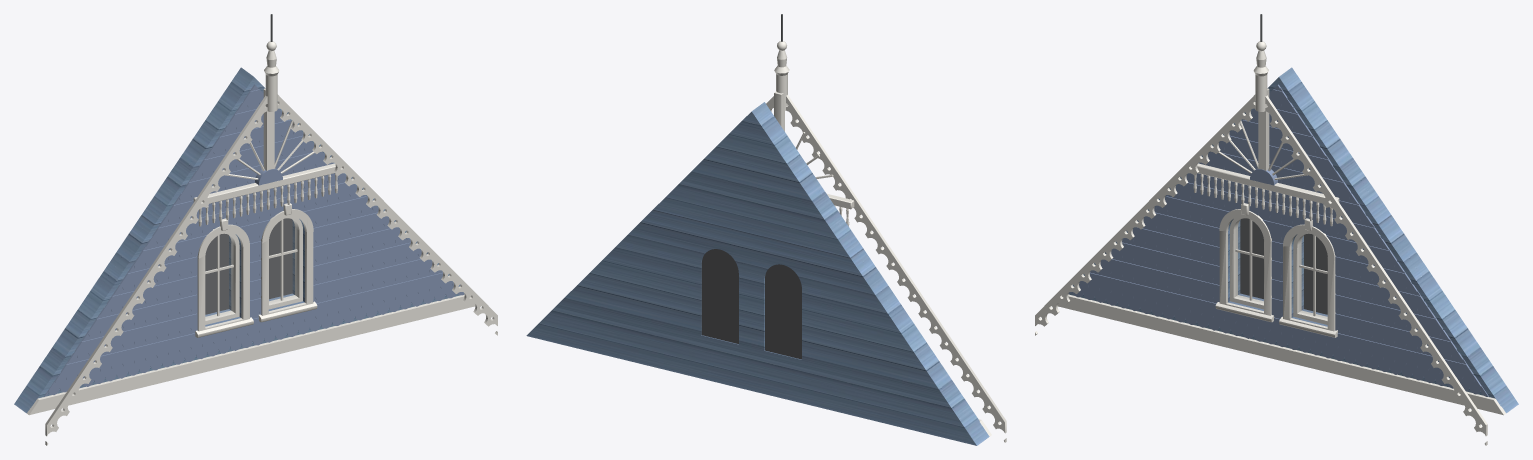
The model's file is gable_front_d.glb.
3 views of the same model, side by side, from view 1: azimuth 30°, elevation 25°; view 2: azimuth 150°, elevation 25°; view 3: azimuth 330°, elevation 25° (orthographic).
Visible parts, largest first — view 1: gable_front_d_acc_d, gable_front_d_trim, gable_front_d_siding_d, gable_front_d_glass, gable_front_d_dark, gable_front_d_frame; view 2: gable_front_d_siding_d, gable_front_d_dark, gable_front_d_trim; view 3: gable_front_d_acc_d, gable_front_d_trim, gable_front_d_siding_d, gable_front_d_glass, gable_front_d_dark, gable_front_d_frame.
Part boxes in pixels (bbox=[...]): gable_front_d_acc_d: bbox=[44, 84, 464, 396]; gable_front_d_trim: bbox=[27, 41, 497, 445]; gable_front_d_siding_d: bbox=[14, 67, 463, 413]; gable_front_d_glass: bbox=[206, 219, 296, 317]; gable_front_d_dark: bbox=[205, 218, 292, 314]; gable_front_d_frame: bbox=[205, 217, 302, 324]; gable_front_d_siding_d: bbox=[526, 102, 989, 445]; gable_front_d_dark: bbox=[701, 249, 801, 359]; gable_front_d_trim: bbox=[766, 41, 1006, 442]; gable_front_d_acc_d: bbox=[1068, 84, 1488, 396]; gable_front_d_trim: bbox=[1035, 41, 1505, 445]; gable_front_d_siding_d: bbox=[1069, 67, 1518, 413]; gable_front_d_glass: bbox=[1236, 219, 1326, 317]; gable_front_d_dark: bbox=[1240, 218, 1327, 314]; gable_front_d_frame: bbox=[1230, 217, 1327, 324].
Bounding box in the file's own units: 6 × 4.75 × 0.7856.
7 materials, 1 textured.
